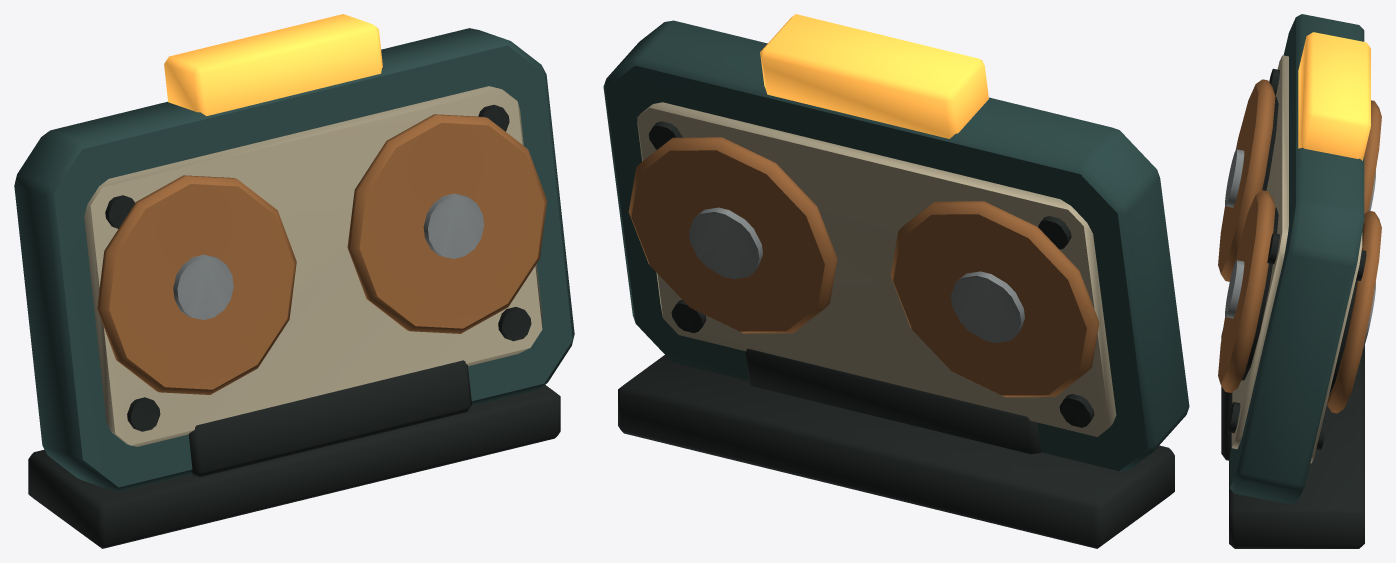
File: cons_duplicator_spool.glb
3 renders of one model, left to right at view 1: azimuth 30°, elevation 25°; view 2: azimuth 150°, elevation 25°; view 3: azimuth 270°, elevation 25°, orthographic. The views are drawn at different scales.
Visible parts, largest first — view 1: cons_duplicator_spool_mesh; view 2: cons_duplicator_spool_mesh; view 3: cons_duplicator_spool_mesh.
Boxes of the visible parts, x1=… form: cons_duplicator_spool_mesh: x1=14, y1=14, x2=574, y2=548; cons_duplicator_spool_mesh: x1=603, y1=14, x2=1189, y2=548; cons_duplicator_spool_mesh: x1=1218, y1=14, x2=1381, y2=548.
Bounding box in the file's own units: 0.54 × 0.4292 × 0.1687.
